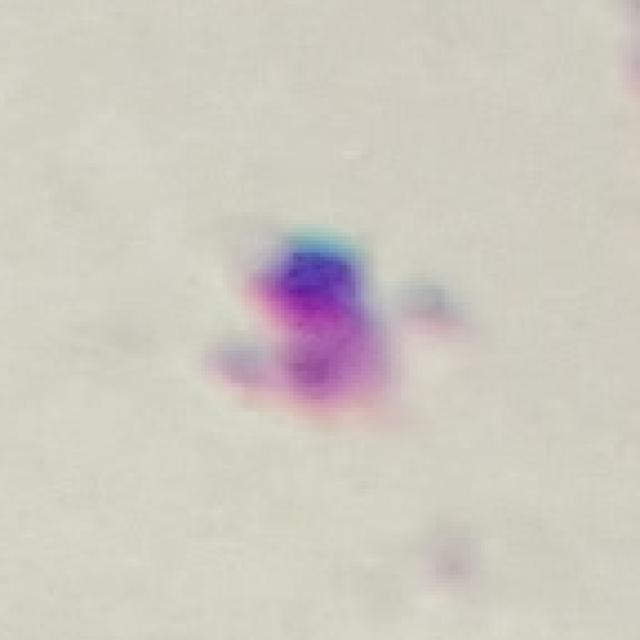non-sperm: (235, 232, 397, 414)
